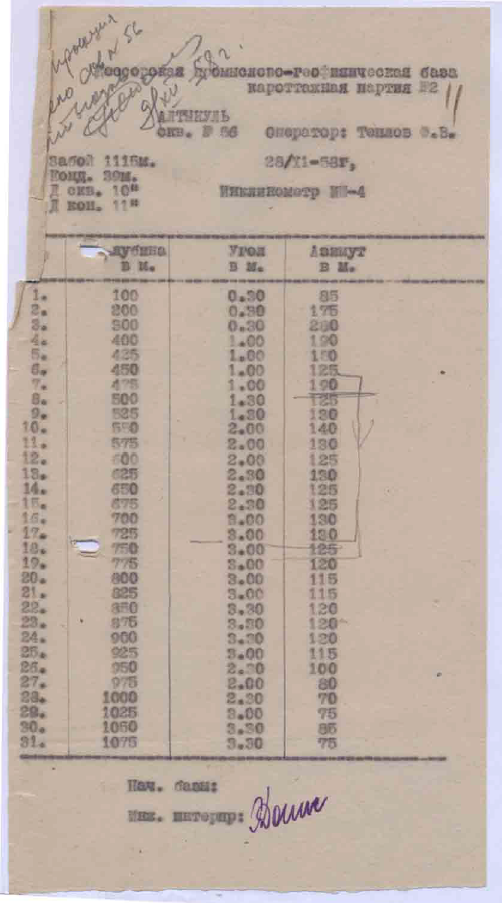Borderless: (8, 233, 485, 761)
